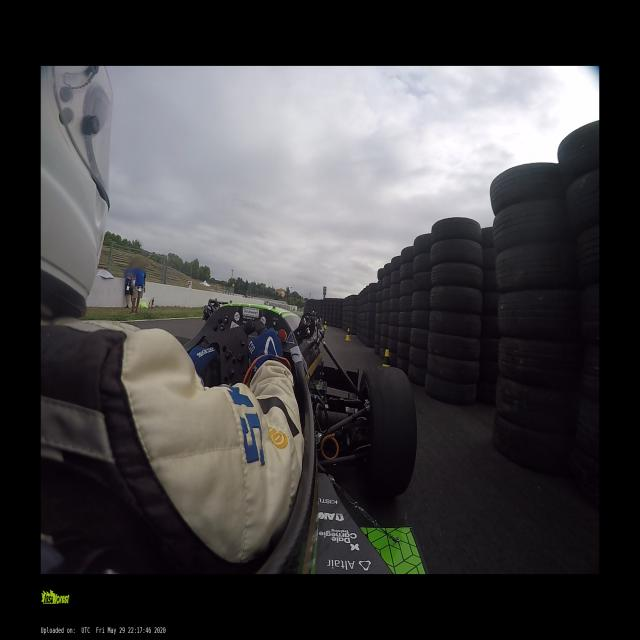yellow_cone: (383, 348, 390, 367), (345, 328, 351, 341), (324, 321, 327, 329)
